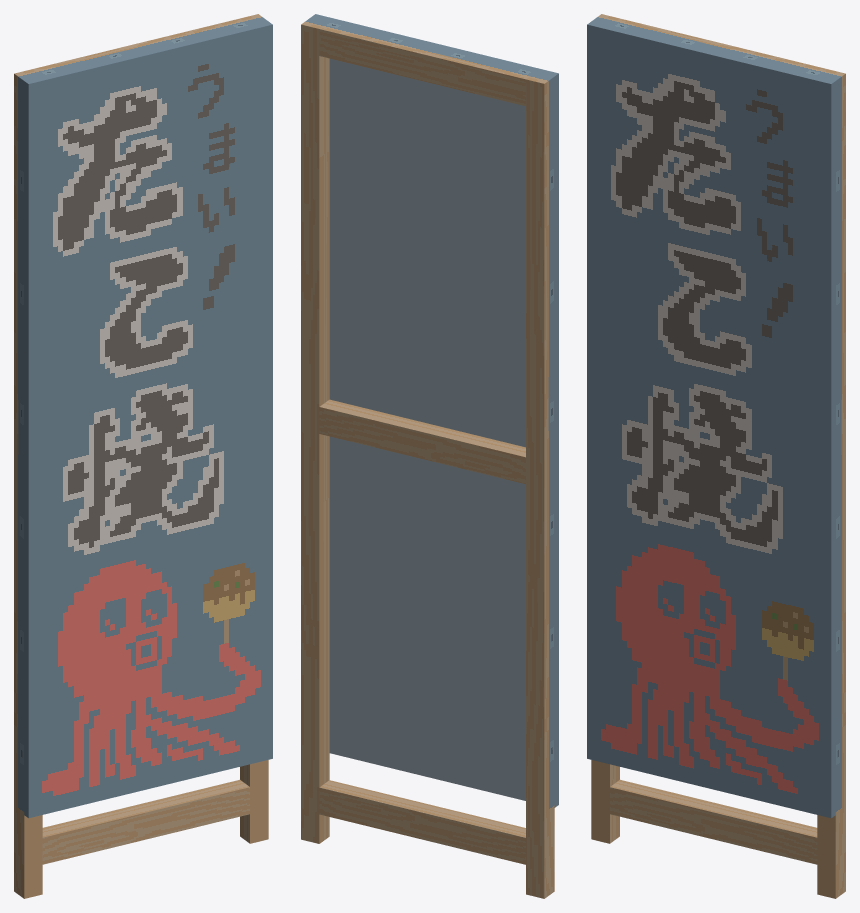
File: 0314_Takoyaki_Sign.glb
3 renders of one model, left to right at view 1: azimuth 30°, elevation 25°; view 2: azimuth 150°, elevation 25°; view 3: azimuth 330°, elevation 25°, orthographic.
Parts seen in each view (by area): view 1: part_0; view 2: part_0; view 3: part_0.
Part boxes in pixels (bbox=[...]): part_0: bbox=[14, 14, 272, 898]; part_0: bbox=[301, 14, 558, 898]; part_0: bbox=[587, 14, 845, 898].
Size of the model in its own units: 0.5 by 1.6 by 0.0513.
1 material, 1 textured.
